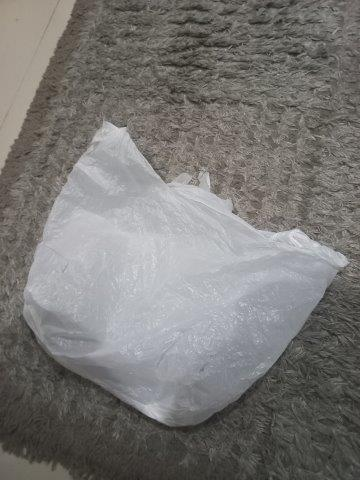plastik: (23, 122, 346, 430)
